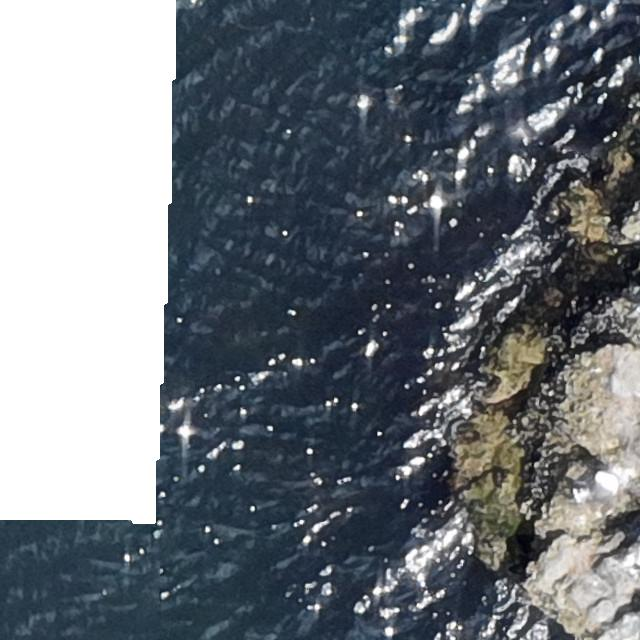umineko: (580, 469, 624, 505)
